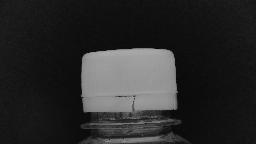Broken Ring: (112, 91, 140, 115)
Loose Cap: (74, 86, 186, 132)
